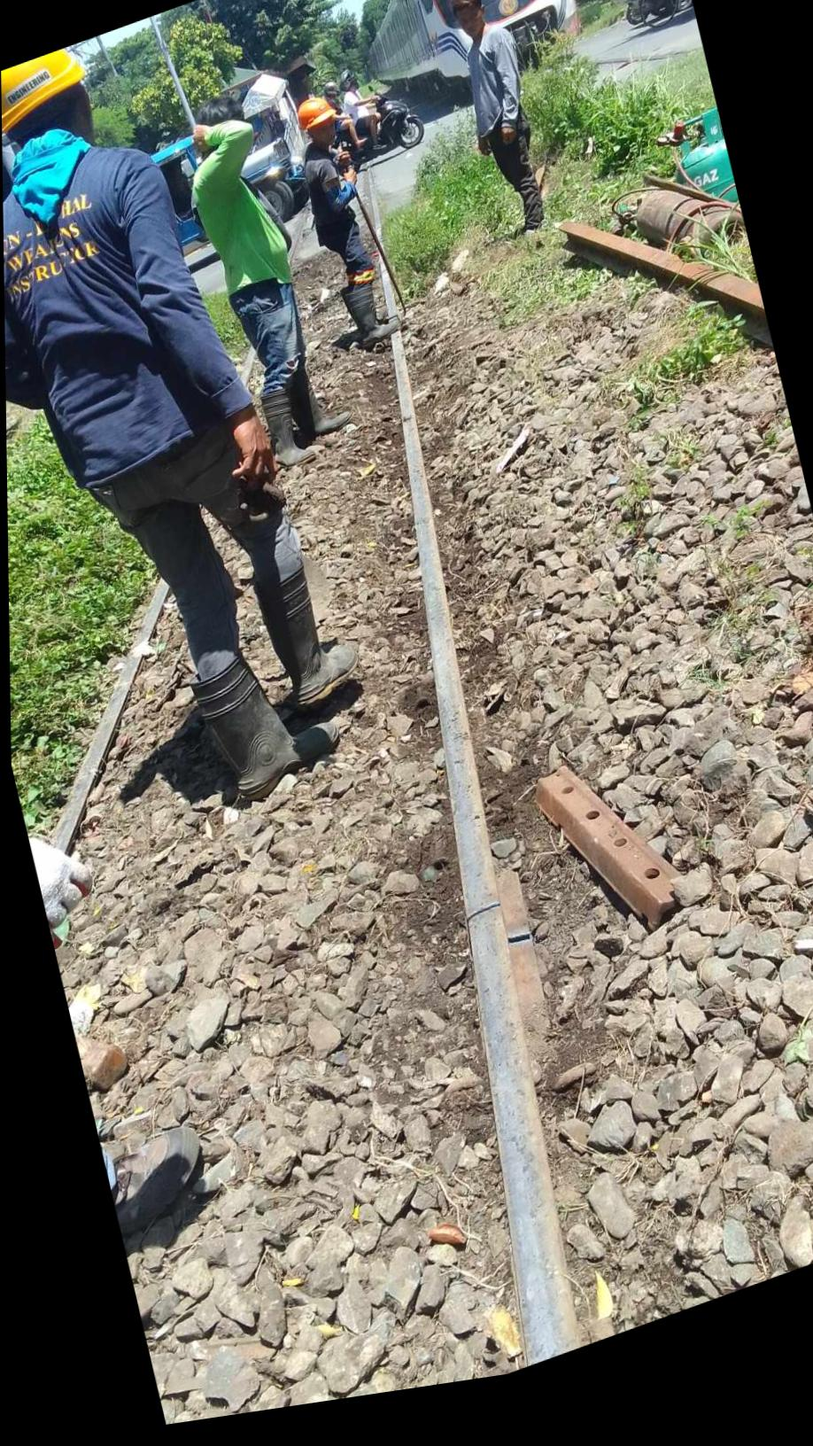person: (416, 859, 550, 1002)
